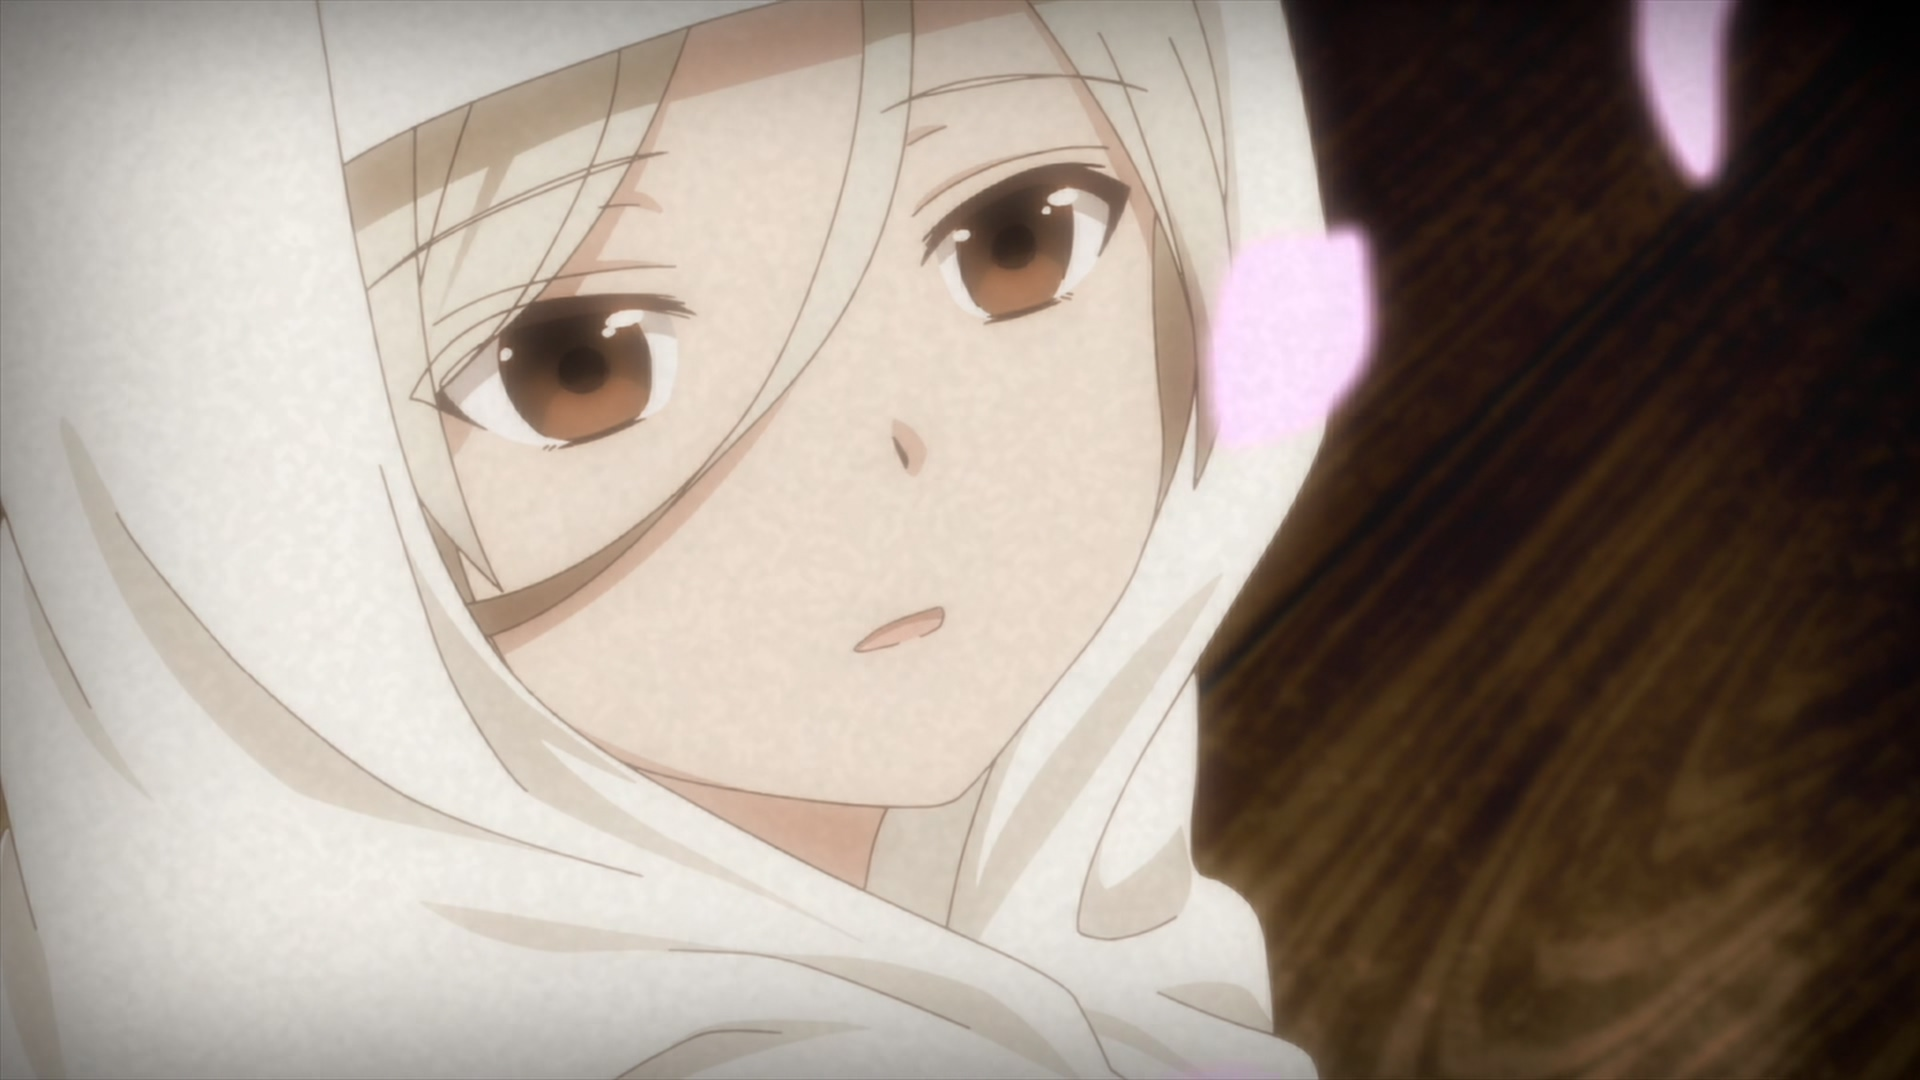八百比丘尼: (1, 1, 1333, 1080)
